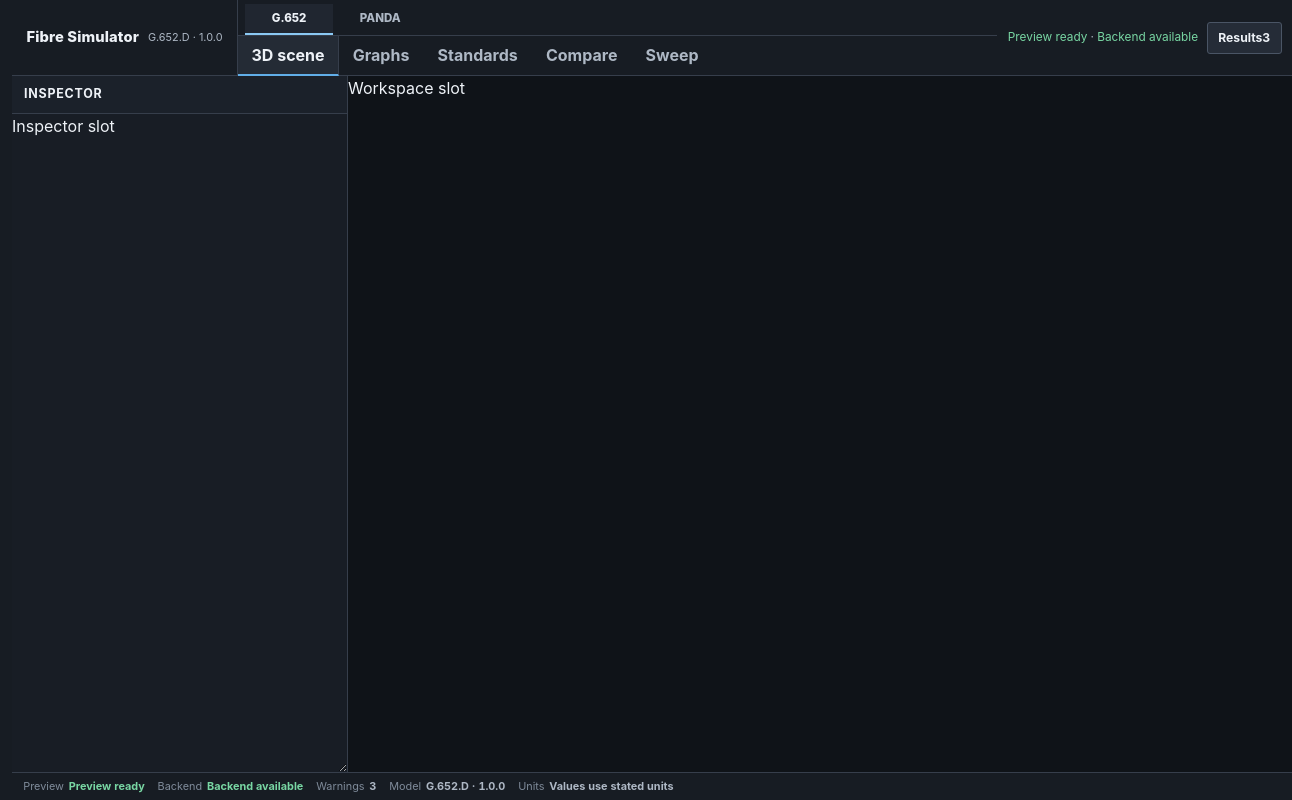
Test: EditorShell › switches modules through their primary buttons
Click the button "PANDA" at (380, 20), box x1=336 y1=4 x2=424 y2=35
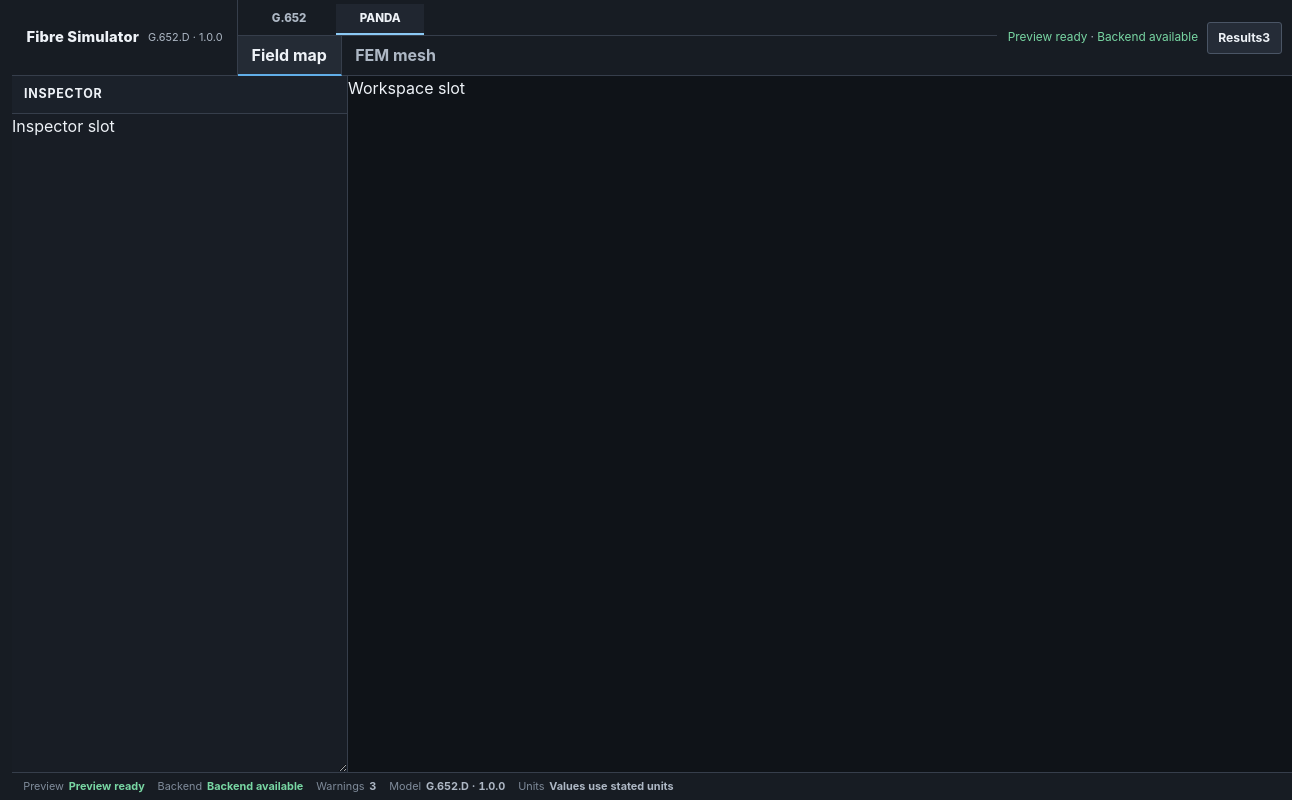
Now the element named "PANDA workspaces" is shown, box x1=238 y1=36 x2=451 y2=76
Click the button "G.652" at (289, 20), box x1=245 y1=4 x2=333 y2=35
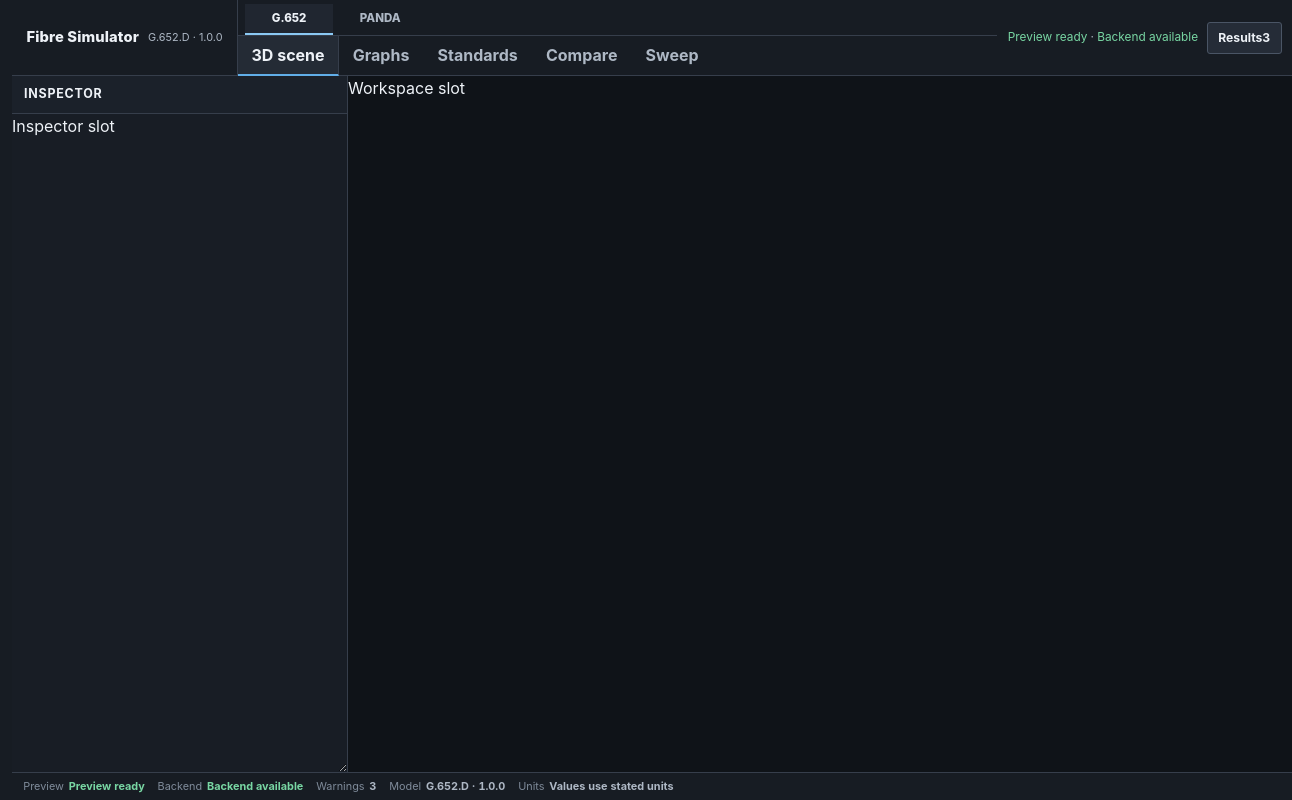
Now the element named "G.652 workspaces" is shown, box x1=238 y1=36 x2=713 y2=76
